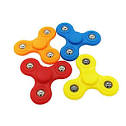fidget_spinner: (11, 18, 58, 64)
